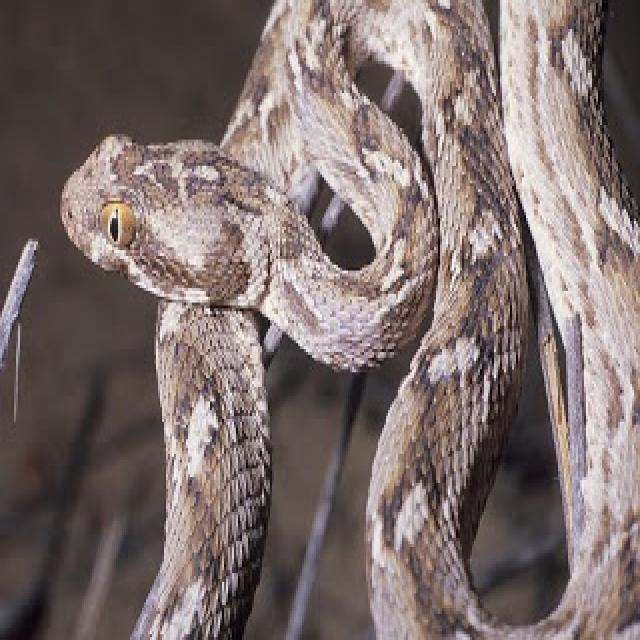Snake: (56, 0, 638, 637)
